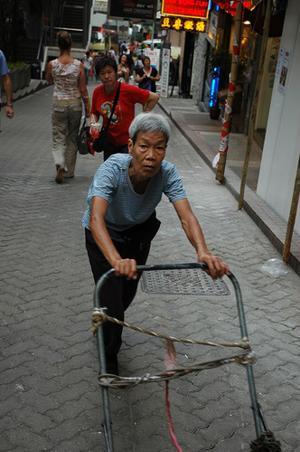person: (81, 114, 229, 389)
